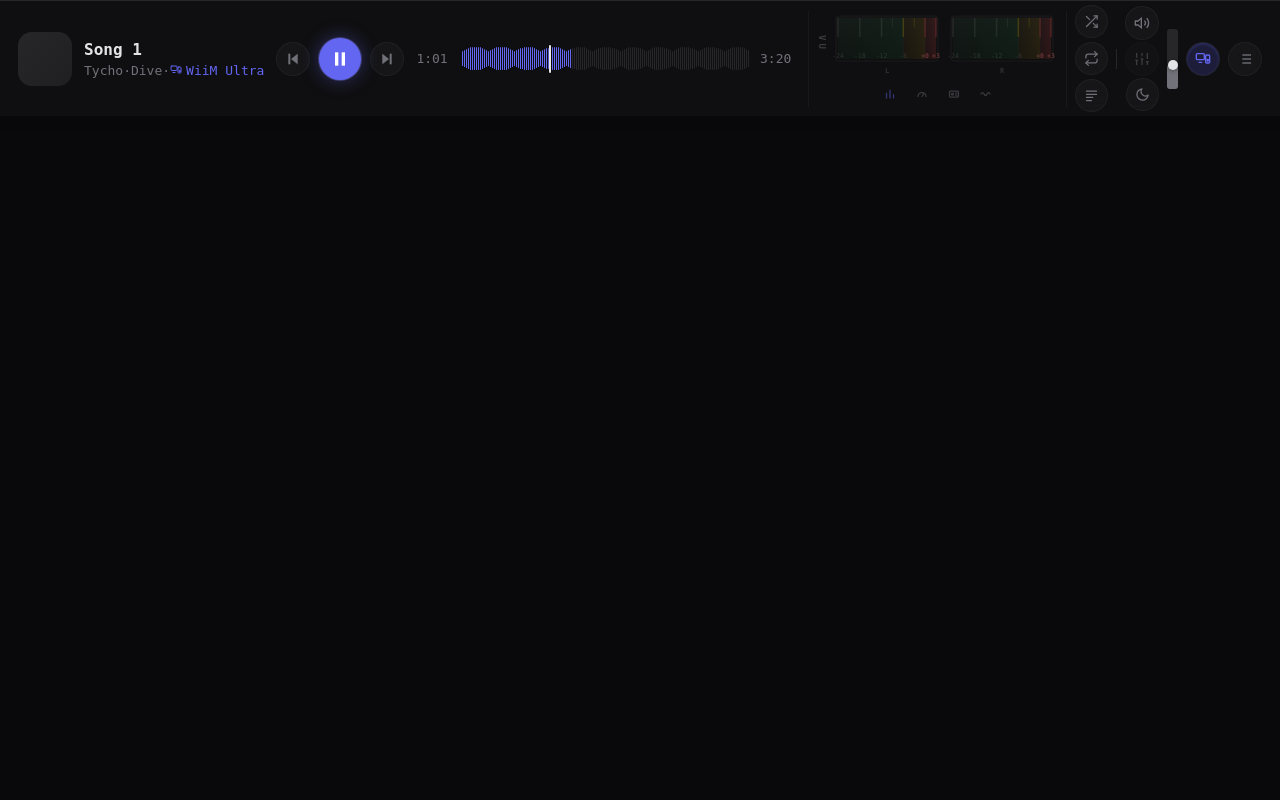
Scenario: Player remote mode › shows where it plays and opens the picker from the indicator and the dock button
Step 1. Click the button with aria-label "Playing on WiiM Ultra. Change speaker" → (217, 70), box [170,62,264,78]
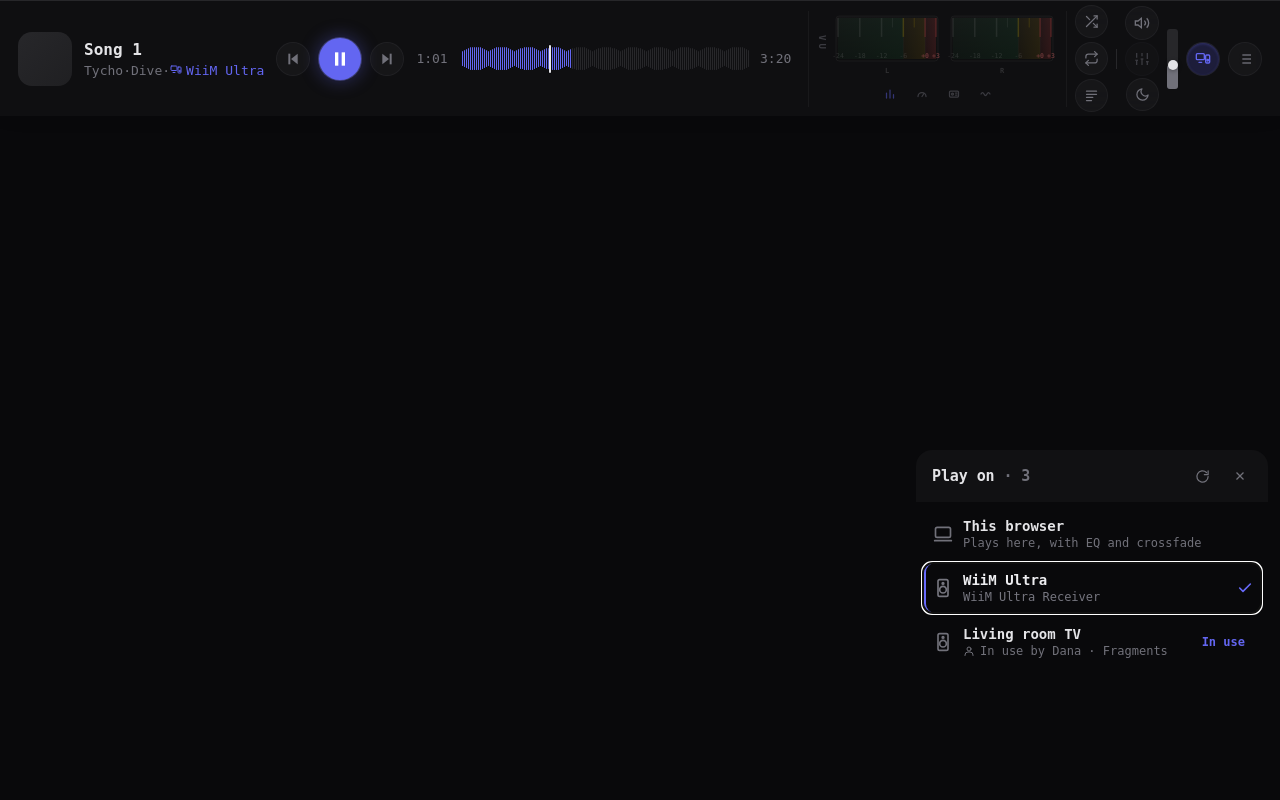
Expected: the text "· 3" is shown, [1004,467,1030,485]
Expected: the text "In use" is shown, [1202,635,1245,649]
Step 2. Click the option "This browser Plays here, with EQ and crossfade" → (1092, 534), box [922,508,1262,560]
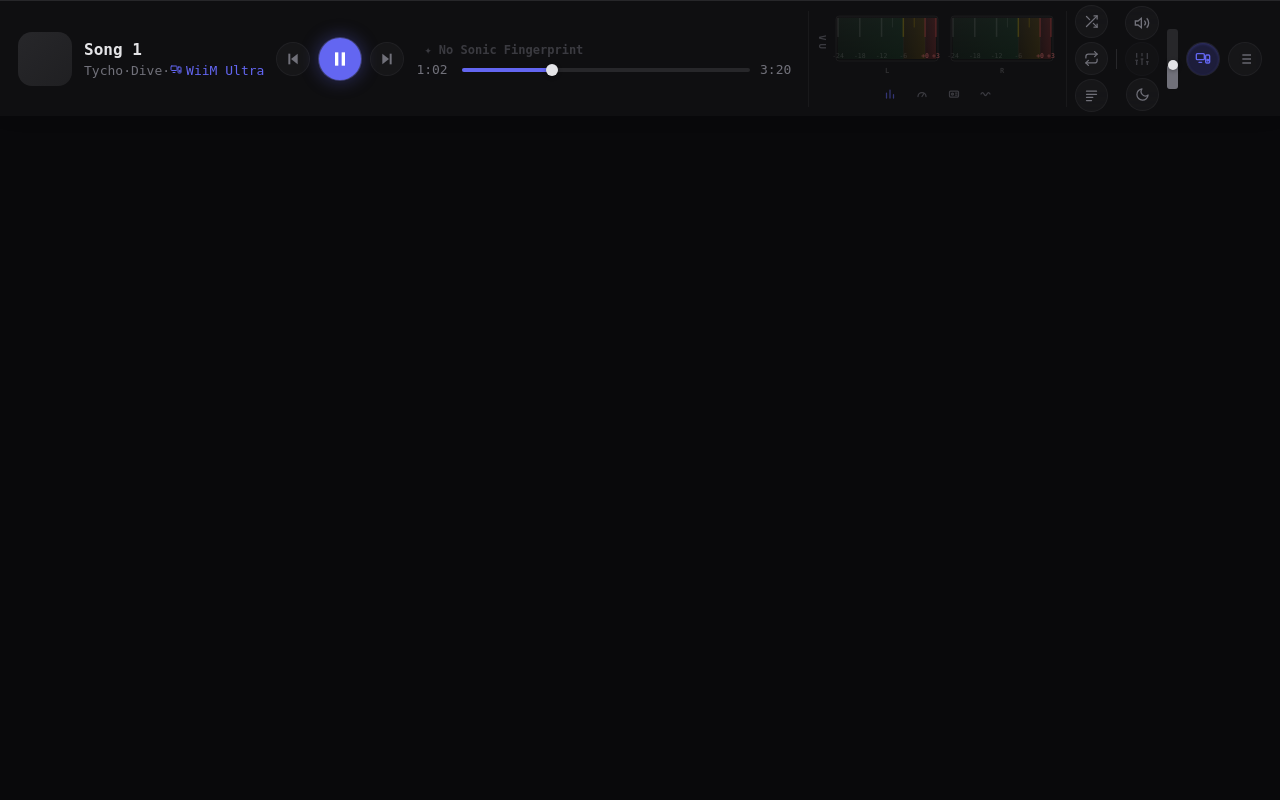
Expected: the dialog "Play on" is gone
